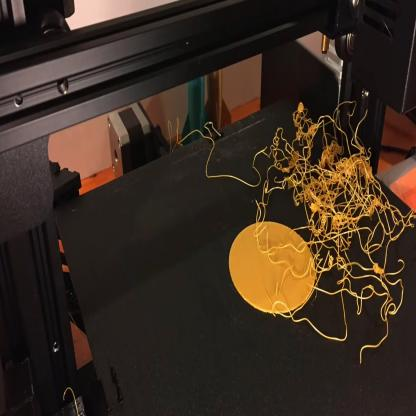fail: (255, 103, 416, 370)
